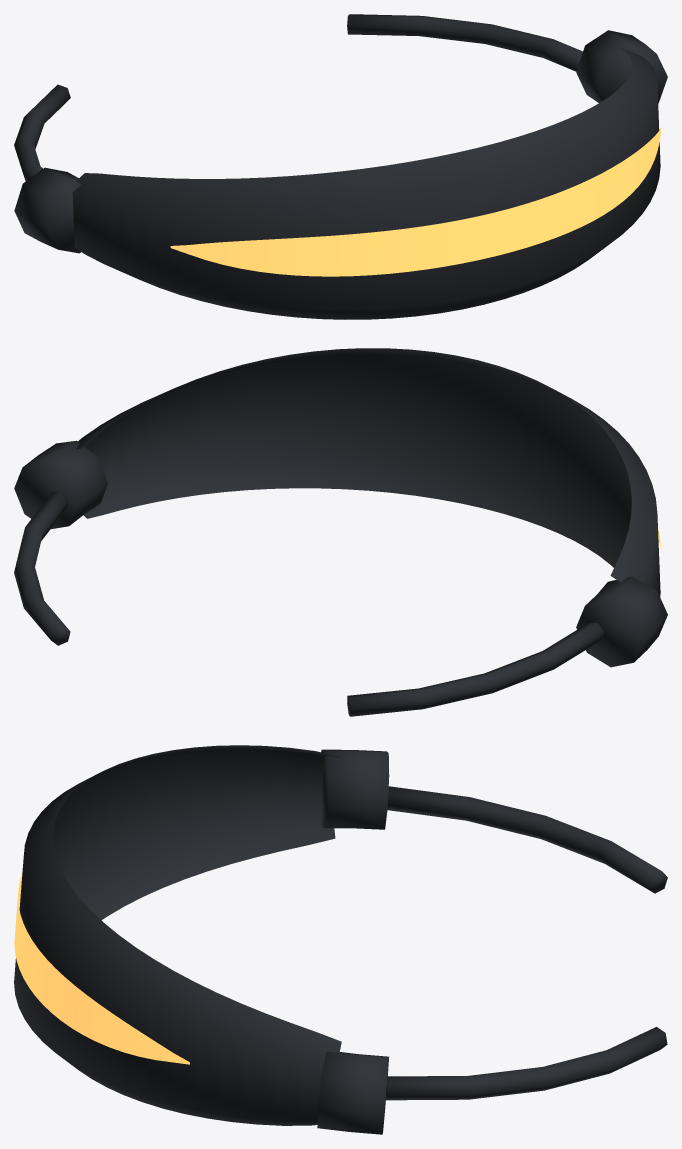
The model's file is visor.glb.
3 views of the same model, one above another, from view 1: azimuth 30°, elevation 25°; view 2: azimuth 150°, elevation 25°; view 3: azimuth 270°, elevation 25° (orthographic). The views are drawn at different scales.
Parts seen in each view (by area): view 1: visor; view 2: visor; view 3: visor.
Boxes of the visible parts, bbox=[...] form: visor: bbox=[14, 14, 667, 319]; visor: bbox=[14, 348, 667, 716]; visor: bbox=[14, 745, 667, 1134].
Bounding box in the file's own units: 0.464 × 0.1077 × 0.3768.
